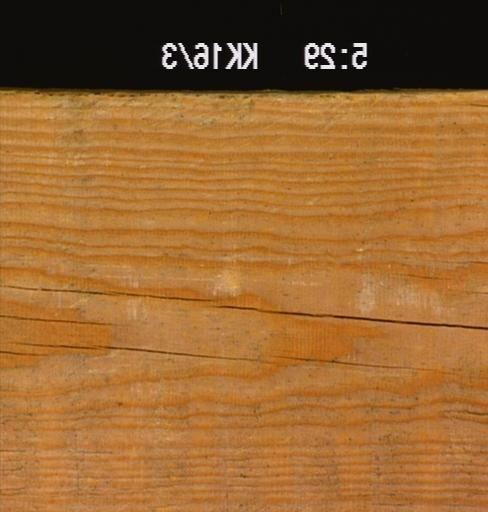split: (0, 282, 214, 303), (269, 352, 454, 373), (93, 342, 255, 360), (0, 311, 121, 327), (14, 337, 96, 350), (0, 346, 51, 356), (445, 404, 486, 416), (466, 98, 486, 107)
